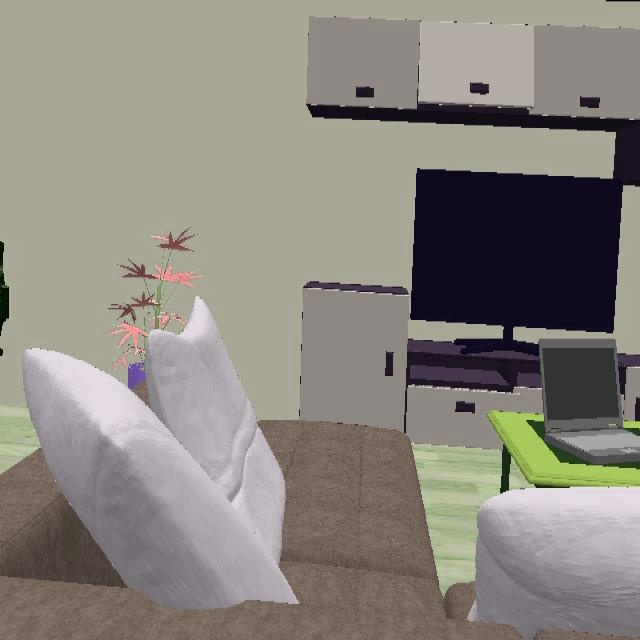cabinet: (307, 16, 640, 187), (300, 283, 410, 431), (405, 377, 543, 451), (625, 367, 640, 420)
laptop: (530, 339, 640, 475)
monitor: (411, 169, 622, 355)
pillow: (22, 305, 296, 612), (473, 488, 640, 640)
sofa: (0, 420, 525, 640)
table: (487, 411, 640, 493)
